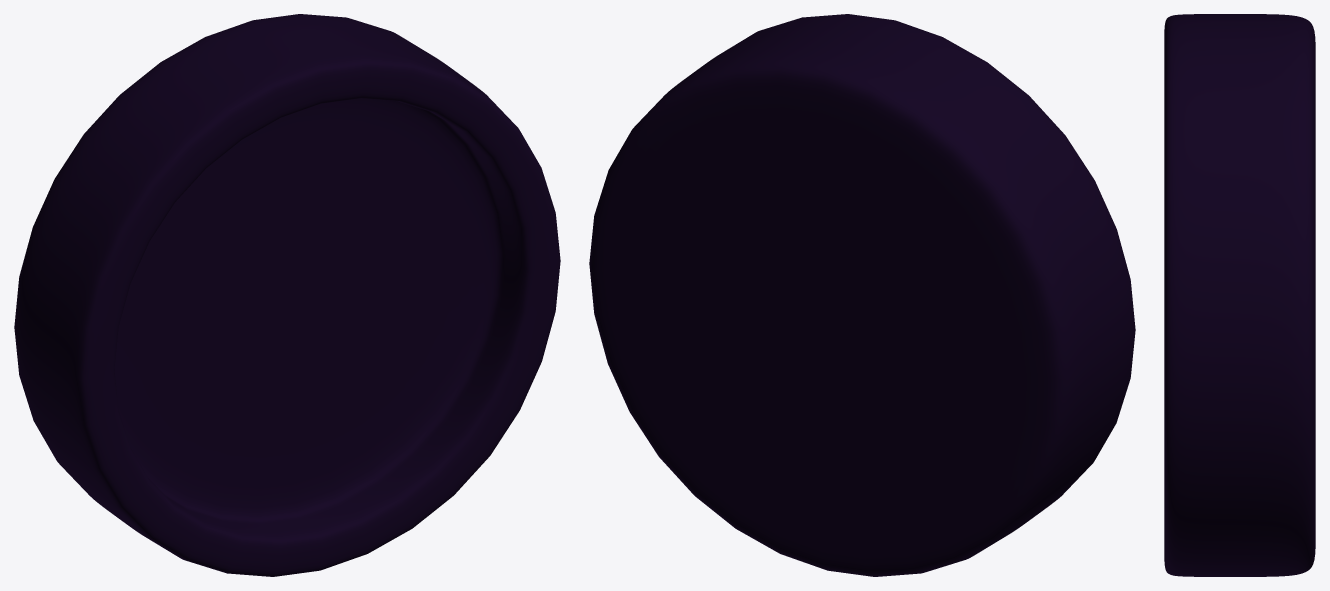
Rendered from dot.glb.
3 views of the same model, side by side, from view 1: azimuth 30°, elevation 25°; view 2: azimuth 150°, elevation 25°; view 3: azimuth 270°, elevation 25° (orthographic).
Parts seen in each view (by area): view 1: dot_hiRes; view 2: dot_hiRes; view 3: dot_hiRes.
Part boxes in pixels (<box>): dot_hiRes: <box>14,14,560,576</box>; dot_hiRes: <box>589,14,1135,576</box>; dot_hiRes: <box>1164,14,1315,576</box>.
Bounding box in the file's own units: 9.44 × 9.44 × 2.53.
